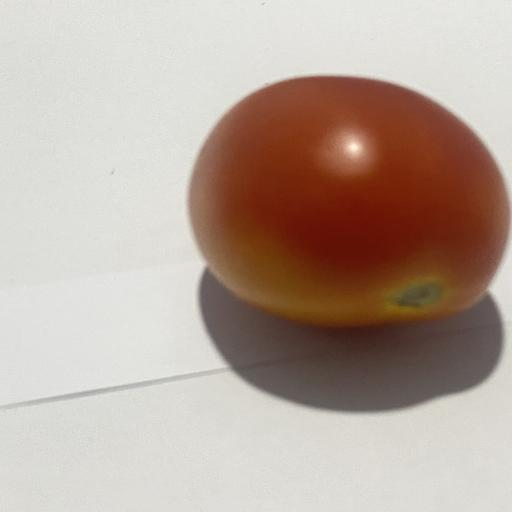ripe: (189, 76, 510, 326)
